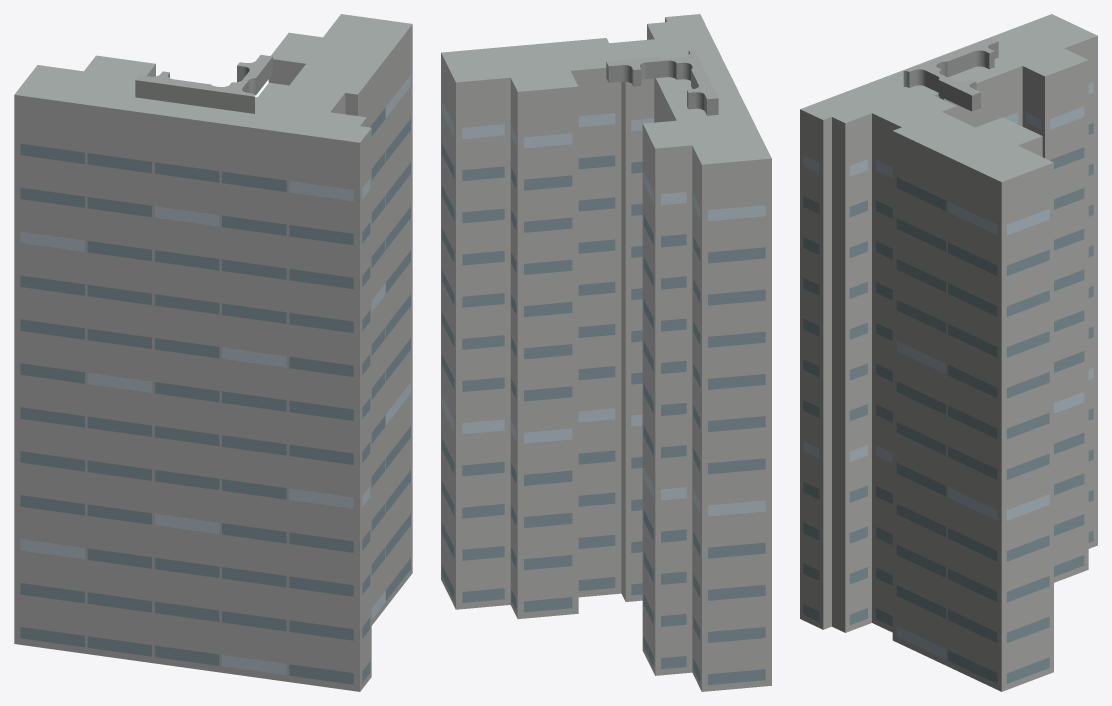
Rendered from fallback-gaepo-xi-presidence-435.glb.
3 renders of one model, left to right at view 1: azimuth 30°, elevation 25°; view 2: azimuth 150°, elevation 25°; view 3: azimuth 270°, elevation 25°, orthographic. The views are drawn at different scales.
Visible parts, largest first — view 1: fallback-gaepo-xi-presidence-435; view 2: fallback-gaepo-xi-presidence-435; view 3: fallback-gaepo-xi-presidence-435.
Boxes of the visible parts, bbox=[...] form: fallback-gaepo-xi-presidence-435: bbox=[14, 14, 412, 691]; fallback-gaepo-xi-presidence-435: bbox=[441, 14, 771, 691]; fallback-gaepo-xi-presidence-435: bbox=[800, 14, 1097, 691].
Size of the model in its own units: 53.98 by 78.65 by 40.39.
